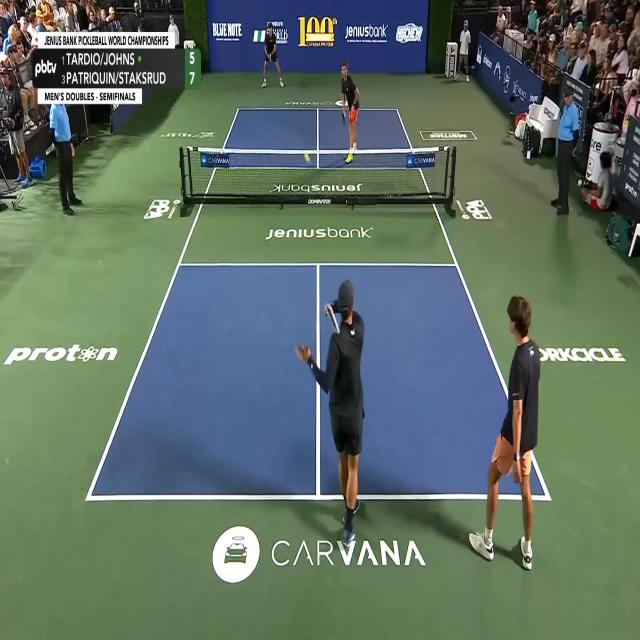ball: (304, 151, 309, 163)
